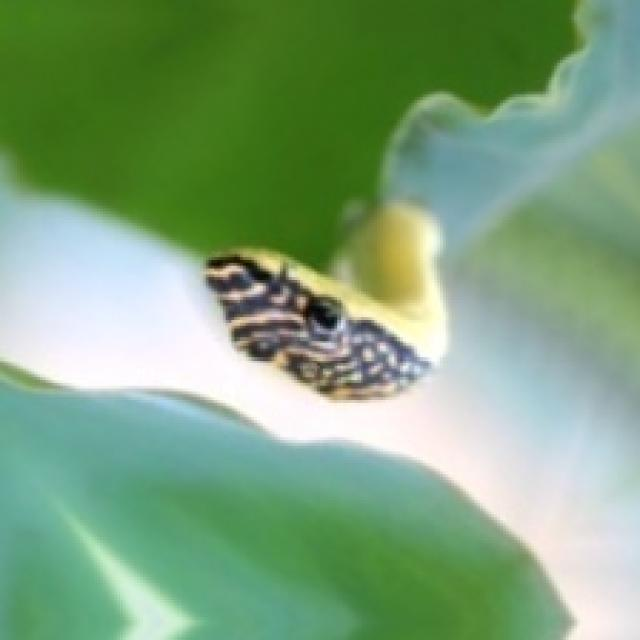paradise tree snake: (206, 203, 443, 397)
